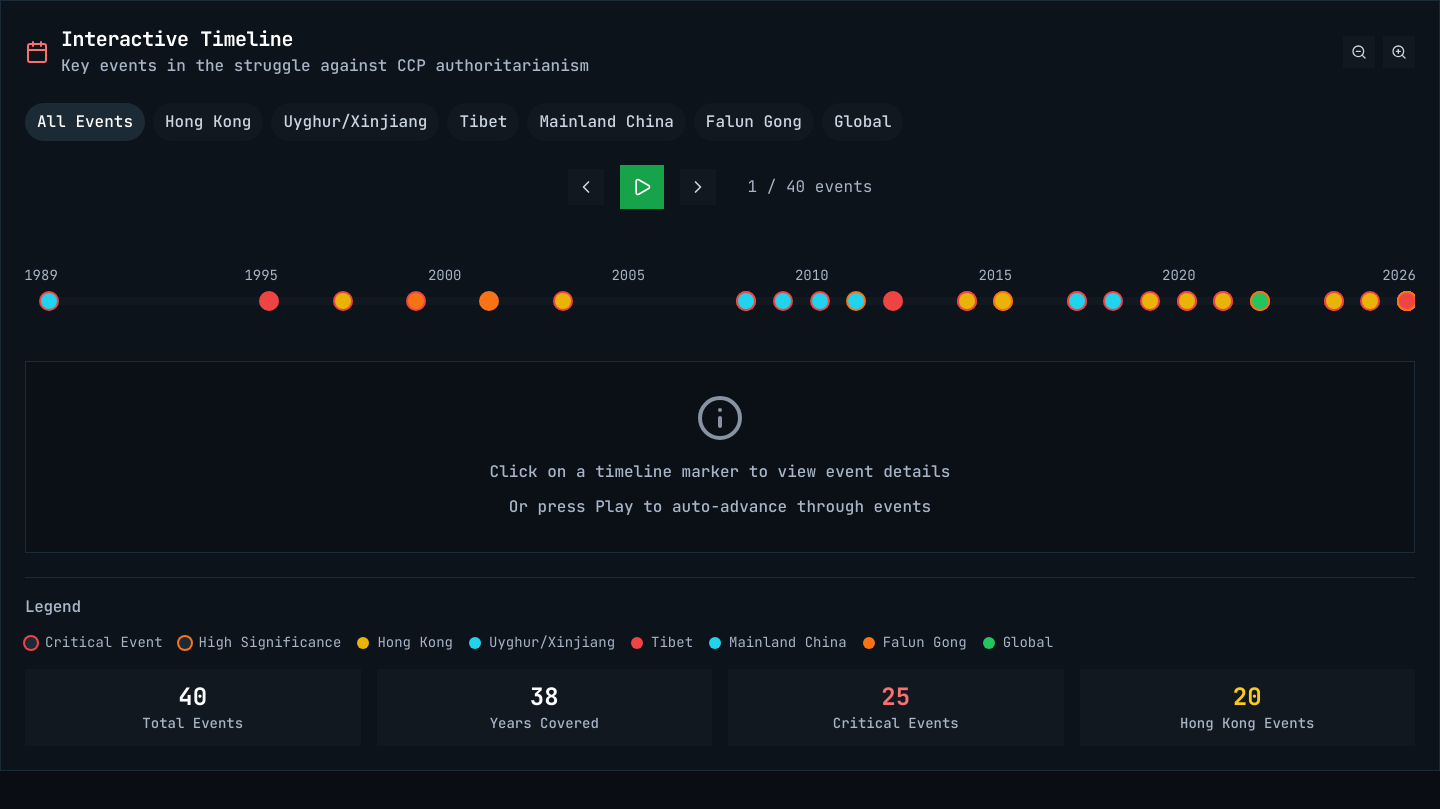
Test case: InteractiveTimeline › displays event details when a timeline marker is clicked
Step 1. Click the button titled "Tiananmen Square Massacre" → [49, 301], box x1=41 y1=293 x2=57 y2=309
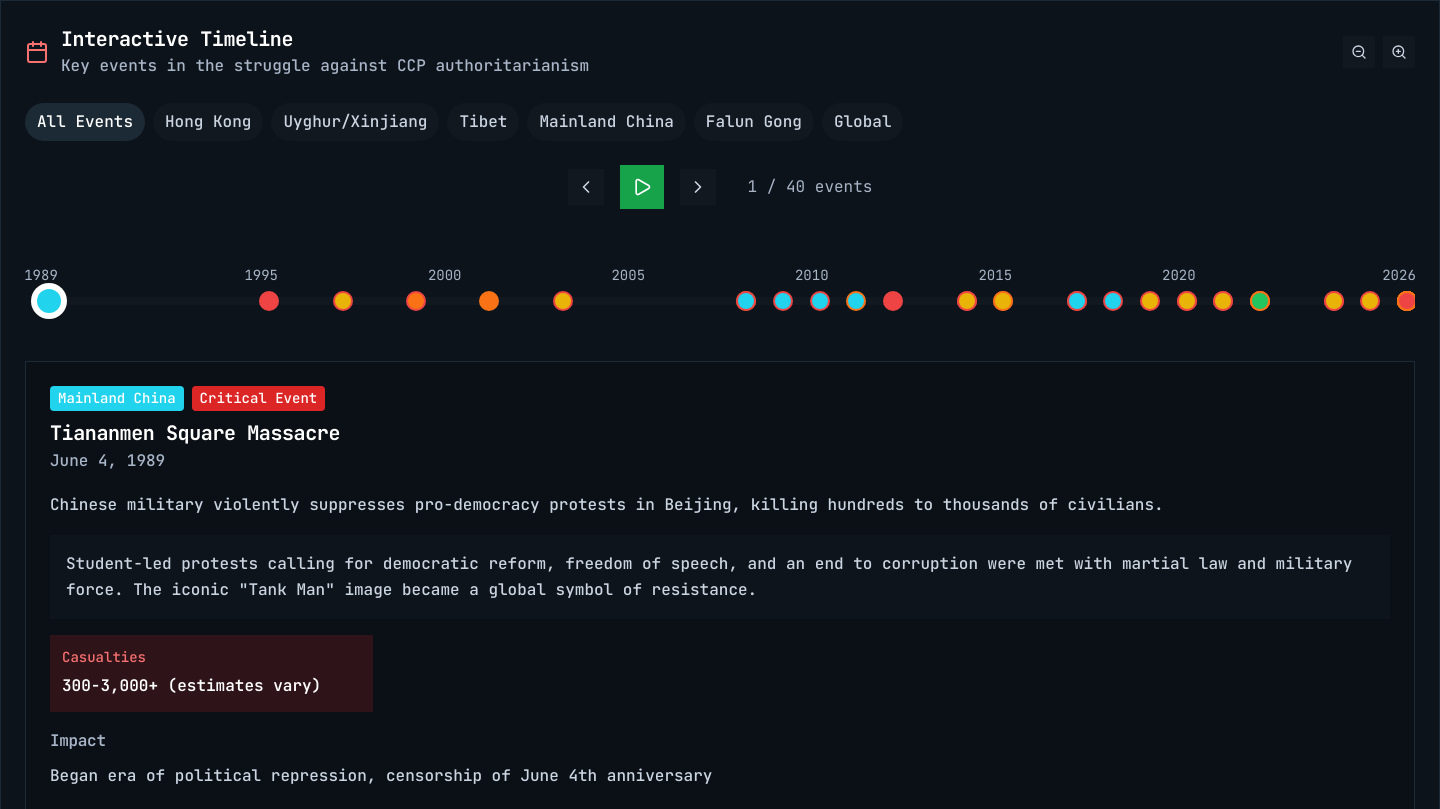
expect the text "Click on a timeline marker to view event details" is gone: met
